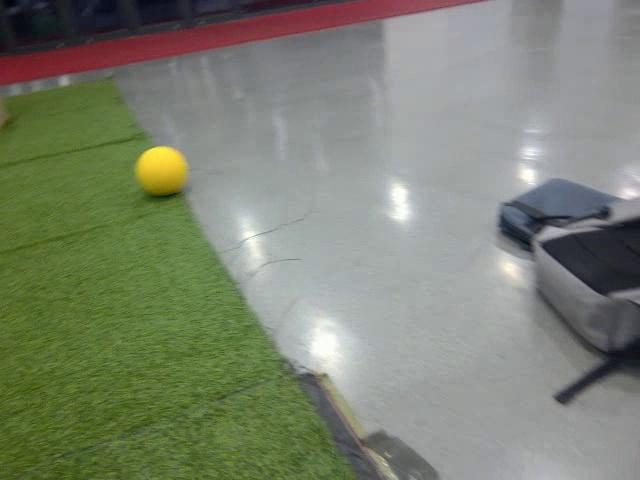yellow_ball: (134, 146, 188, 198)
